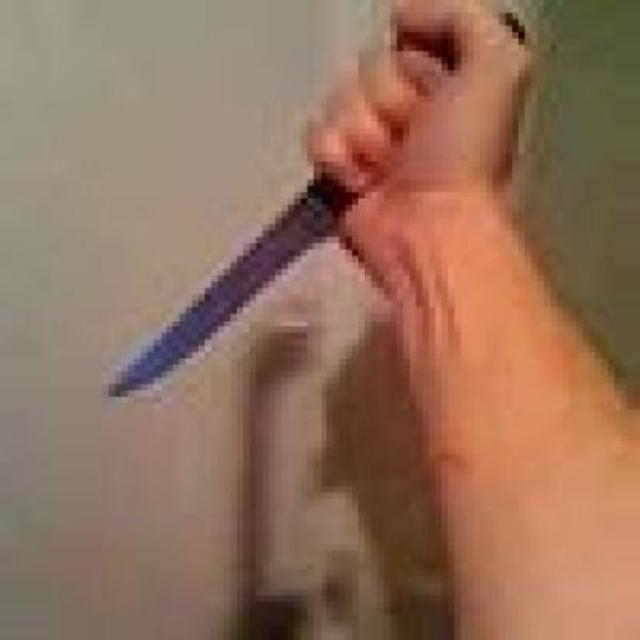Knife: (103, 7, 527, 400)
